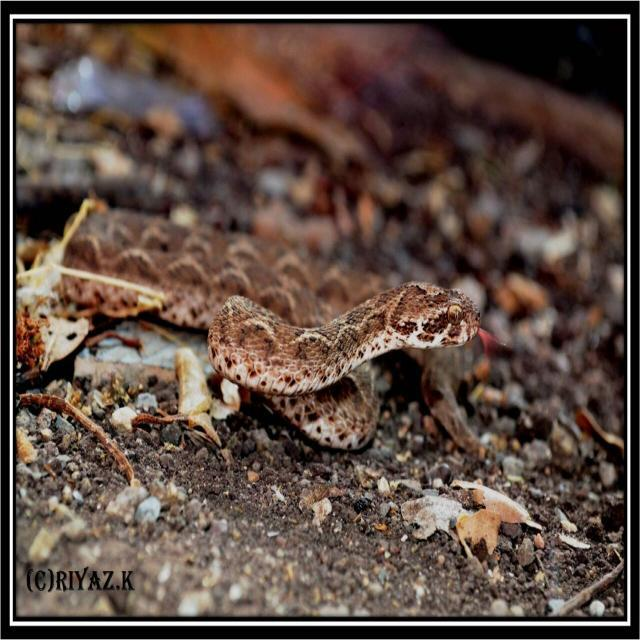Snake: (68, 200, 494, 448)
